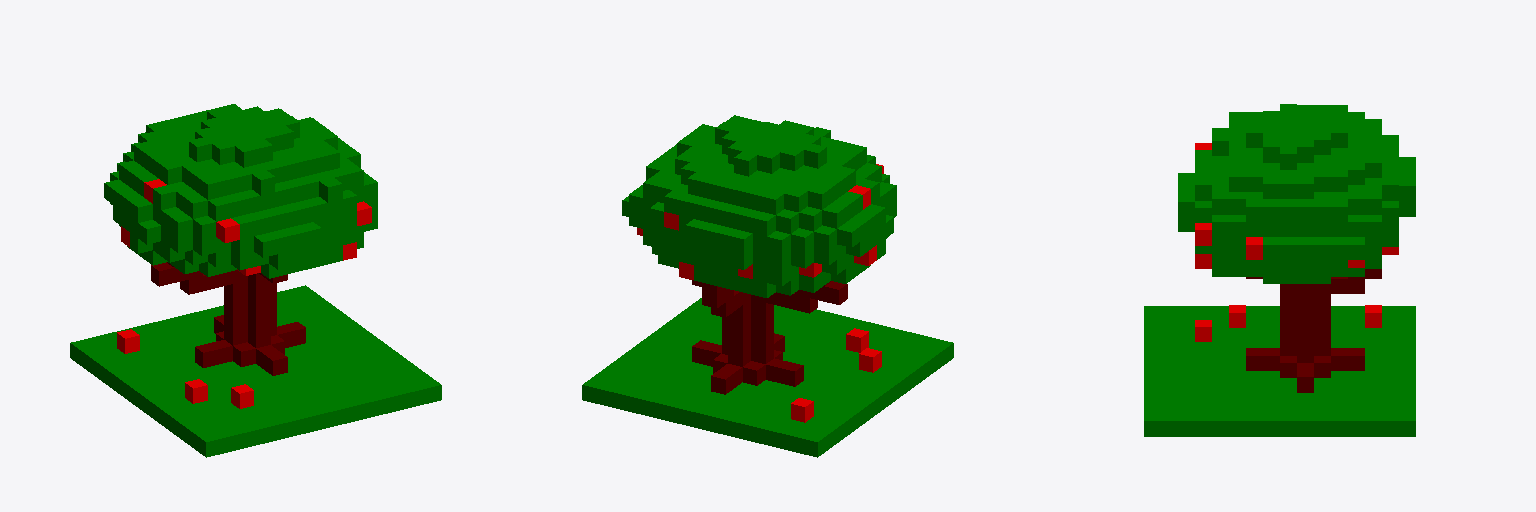
File: arbol.obj
3 views of the same model, side by side, from view 1: azimuth 30°, elevation 25°; view 2: azimuth 150°, elevation 25°; view 3: azimuth 270°, elevation 25° (orthographic).
Visible parts, largest first — view 1: arbol; view 2: arbol; view 3: arbol.
Boxes of the visible parts, x1=… form: arbol: x1=70, y1=104, x2=441, y2=457; arbol: x1=582, y1=115, x2=953, y2=457; arbol: x1=1144, y1=104, x2=1415, y2=436.
Size of the model in its own units: 16 by 16 by 16.